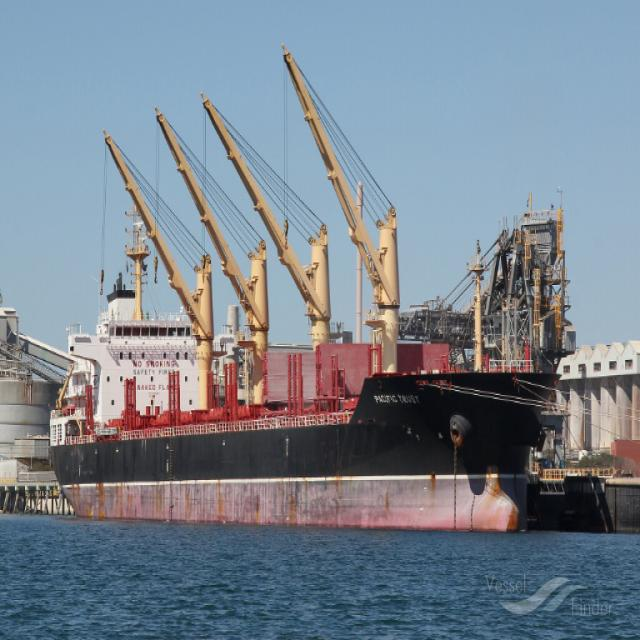OCR: (364, 384, 424, 410)
